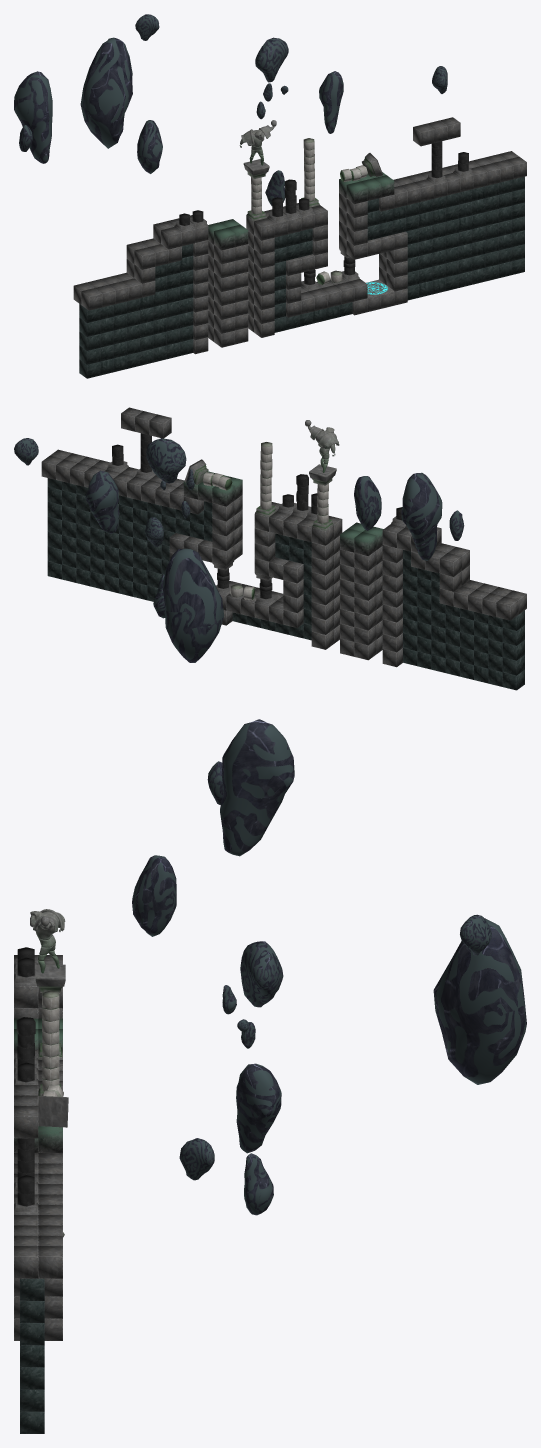
Rendered from decors_01.fbx.
The picture shows the model from 3 angles, top to bottom: view 1: azimuth 30°, elevation 25°; view 2: azimuth 150°, elevation 25°; view 3: azimuth 270°, elevation 25°; orthographic projection. The views are drawn at different scales.
Visible parts, largest first — view 1: HR_T_rocher_6, HR_T_rocher_4, HR_T_rocher_2, HR_T_rocher_1, HR_T_rocher_3, HR_T_colonneArriere_9, HR_T_colonneArriere_10, HR_T_statue_1, HR_T_colonnes_6, HR_T_colonnes_4, HR_T_rocher_11, HR_T_rocher_12; view 2: HR_T_rocher_6, HR_T_rocher_4, HR_T_rocher_2, HR_T_rocher_3, HR_T_rocher_1, HR_T_colonneArriere_9, HR_T_colonneArriere_10, HR_T_statue_1, HR_T_colonnes_4, HR_T_colonnes_6, HR_T_rocher_5, HR_T_cubeArriere_1 (+49 smaller); view 3: HR_T_rocher_6, HR_T_rocher_4, HR_T_rocher_2, HR_T_rocher_1, HR_T_rocher_3, HR_T_colonneArriere_10, HR_T_rocher_11, HR_T_statue_1, HR_T_rocher_5, HR_T_colonnes_4, HR_T_colonneArriere_2, HR_T_rocher_12 (+6 smaller).
Part boxes in pixels (bbox=[...]): HR_T_rocher_6: bbox=[80, 37, 132, 148]; HR_T_rocher_4: bbox=[14, 71, 52, 163]; HR_T_rocher_2: bbox=[319, 71, 343, 133]; HR_T_rocher_1: bbox=[137, 120, 162, 173]; HR_T_rocher_3: bbox=[255, 37, 288, 82]; HR_T_colonneArriere_9: bbox=[243, 159, 269, 221]; HR_T_colonneArriere_10: bbox=[301, 138, 319, 207]; HR_T_statue_1: bbox=[239, 120, 276, 165]; HR_T_colonnes_6: bbox=[426, 141, 447, 184]; HR_T_colonnes_4: bbox=[283, 179, 300, 220]; HR_T_rocher_11: bbox=[265, 170, 285, 205]; HR_T_rocher_12: bbox=[135, 14, 159, 40]; HR_T_rocher_6: bbox=[162, 548, 223, 662]; HR_T_rocher_4: bbox=[401, 472, 442, 560]; HR_T_rocher_2: bbox=[85, 470, 119, 533]; HR_T_rocher_3: bbox=[146, 438, 186, 483]; HR_T_rocher_1: bbox=[354, 476, 381, 530]; HR_T_colonneArriere_9: bbox=[309, 464, 336, 530]; HR_T_colonneArriere_10: bbox=[255, 442, 276, 516]; HR_T_statue_1: bbox=[305, 420, 339, 472]; HR_T_colonnes_4: bbox=[291, 474, 311, 517]; HR_T_colonnes_6: bbox=[135, 433, 155, 479]; HR_T_rocher_5: bbox=[14, 438, 38, 465]; HR_T_cubeArriere_1: bbox=[496, 596, 518, 620]; HR_T_rocher_6: bbox=[433, 918, 526, 1084]; HR_T_rocher_4: bbox=[220, 719, 294, 856]; HR_T_rocher_2: bbox=[236, 1063, 281, 1153]; HR_T_rocher_1: bbox=[132, 855, 176, 936]; HR_T_rocher_3: bbox=[240, 941, 283, 1007]; HR_T_colonneArriere_10: bbox=[38, 990, 62, 1095]; HR_T_rocher_11: bbox=[244, 1153, 273, 1215]; HR_T_statue_1: bbox=[30, 909, 65, 973]; HR_T_rocher_5: bbox=[179, 1138, 214, 1180]; HR_T_colonnes_4: bbox=[14, 1017, 38, 1079]; HR_T_colonneArriere_2: bbox=[38, 1095, 68, 1127]; HR_T_rocher_12: bbox=[460, 914, 491, 955].
Bounding box in the file's own units: 3333 × 1773 × 2096.
